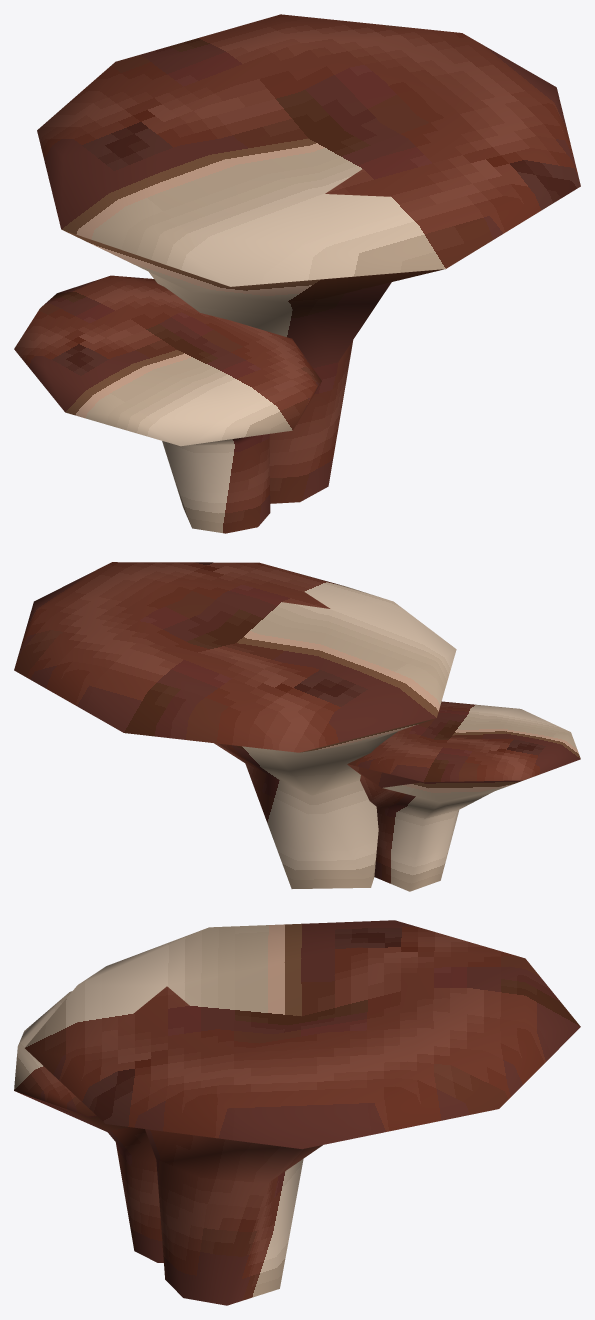
Rendered from fg_mush3.dae.
The picture shows the model from 3 angles, top to bottom: view 1: azimuth 30°, elevation 25°; view 2: azimuth 150°, elevation 25°; view 3: azimuth 270°, elevation 25°; orthographic projection. The views are drawn at different scales.
Visible parts, largest first — view 1: fg_mush3; view 2: fg_mush3; view 3: fg_mush3.
Part boxes in pixels (left/top/right/bottom): fg_mush3: left=14, top=14, right=580, bottom=533; fg_mush3: left=14, top=562, right=580, bottom=891; fg_mush3: left=14, top=920, right=580, bottom=1305.
Size of the model in its own units: 15.56 by 8.44 by 12.93.
Materials: 1 (1 with a texture image).
